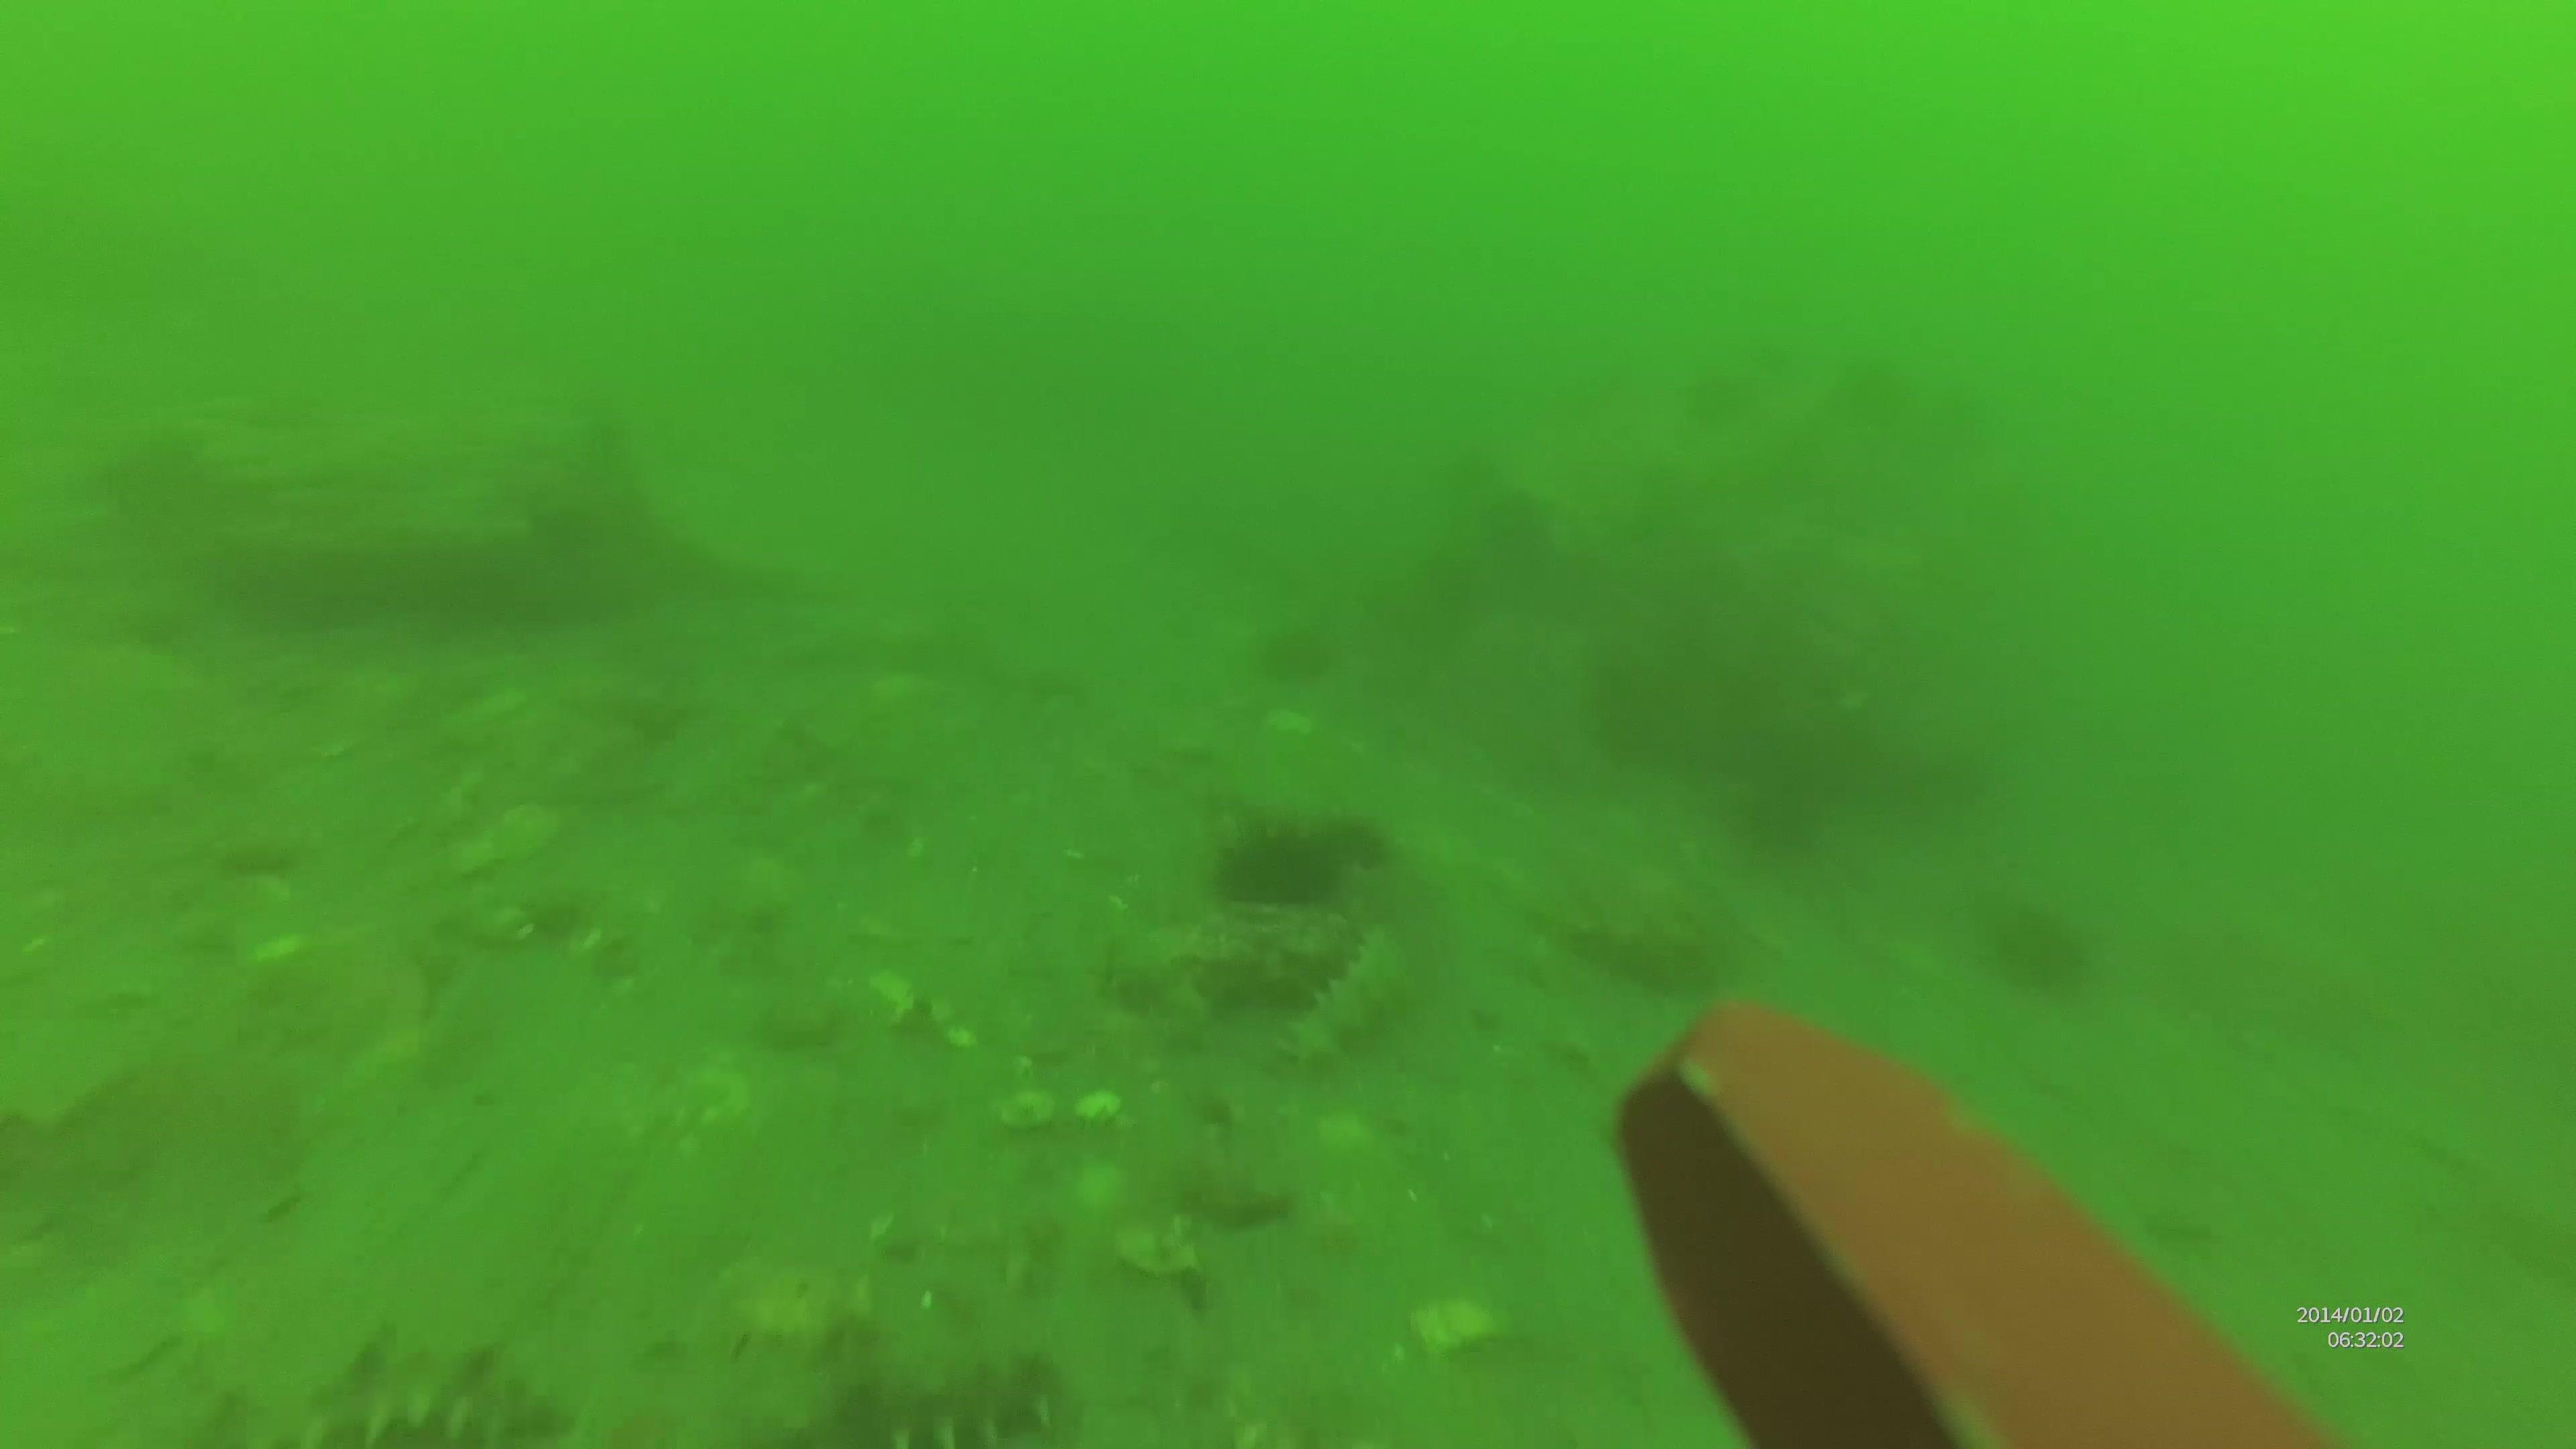echinus: (1198, 810, 1325, 899)
holothurian: (230, 1361, 571, 1449), (794, 1362, 1081, 1449), (1293, 931, 1437, 1065)
